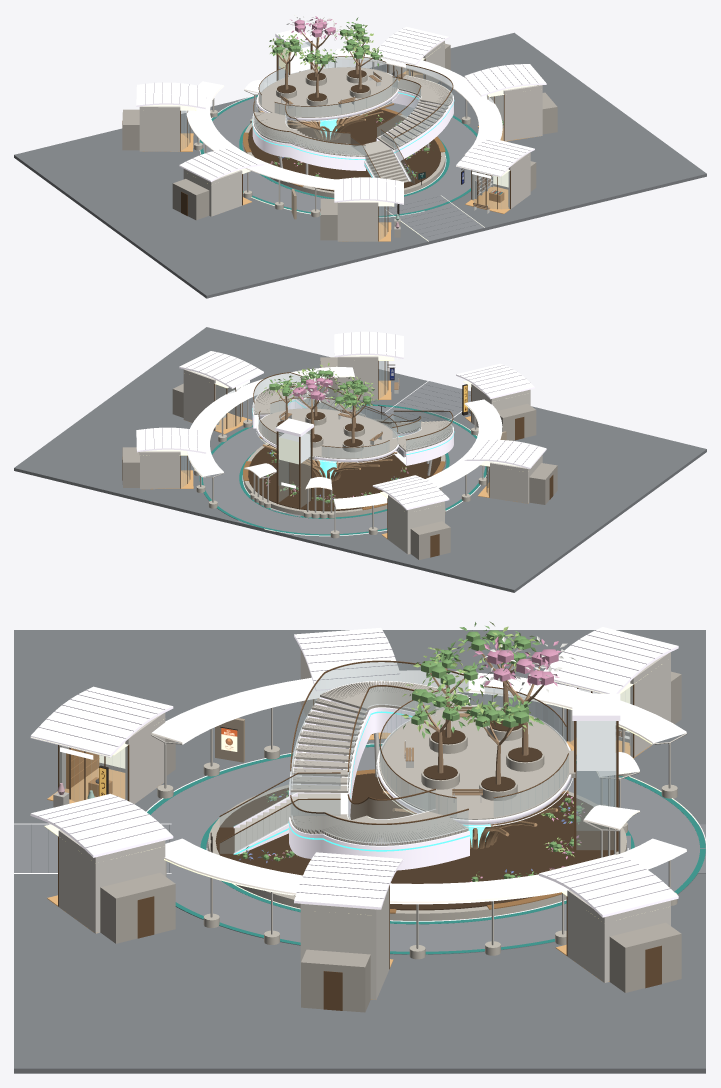
File: q09c-skywalk-market-v2.glb
3 renders of one model, top to bottom at view 1: azimuth 30°, elevation 25°; view 2: azimuth 150°, elevation 25°; view 3: azimuth 270°, elevation 25°, orthographic. The views are drawn at different scales.
Parts seen in each view (by area): view 1: PAVING, SHOPS, CANOPY_COURTYARD, CANOPIES, COURTYARD_GROUND, SKYWALK_R, SKYWALK_L, STAIR_LANDING, LIFT; view 2: PAVING, SHOPS, CANOPY_COURTYARD, CANOPIES, COURTYARD_GROUND, SKYWALK_L, LIFT, SKYWALK_R; view 3: PAVING, SHOPS, CANOPY_COURTYARD, CANOPIES, COURTYARD_GROUND, SKYWALK_L, SKYWALK_R, LIFT, STAIR_LANDING, SIGN_FRAMES.
Part boxes in pixels (<box>): PAVING: <box>14,32,706,298</box>; SHOPS: <box>122,26,557,241</box>; CANOPY_COURTYARD: <box>256,14,399,140</box>; CANOPIES: <box>186,48,502,217</box>; COURTYARD_GROUND: <box>243,107,445,197</box>; SKYWALK_R: <box>376,64,454,160</box>; SKYWALK_L: <box>252,101,365,174</box>; STAIR_LANDING: <box>351,129,414,183</box>; LIFT: <box>275,29,313,80</box>; PAVING: <box>14,327,706,592</box>; SHOPS: <box>122,331,557,559</box>; CANOPY_COURTYARD: <box>256,363,398,481</box>; CANOPIES: <box>187,366,502,538</box>; COURTYARD_GROUND: <box>243,419,445,517</box>; SKYWALK_L: <box>381,410,454,475</box>; LIFT: <box>270,418,314,516</box>; SKYWALK_R: <box>252,372,365,428</box>; PAVING: <box>14,630,706,1073</box>; SHOPS: <box>30,627,681,1012</box>; CANOPY_COURTYARD: <box>376,621,575,849</box>; CANOPIES: <box>151,670,686,959</box>; COURTYARD_GROUND: <box>208,769,626,920</box>; SKYWALK_L: <box>288,660,469,816</box>; SKYWALK_R: <box>288,788,469,870</box>; LIFT: <box>563,693,630,851</box>; STAIR_LANDING: <box>219,772,340,854</box>; SIGN_FRAMES: <box>99,718,244,852</box>.
Size of the model in its own units: 54 by 12.08 by 36.06.
Materials: 57 (4 with a texture image).
